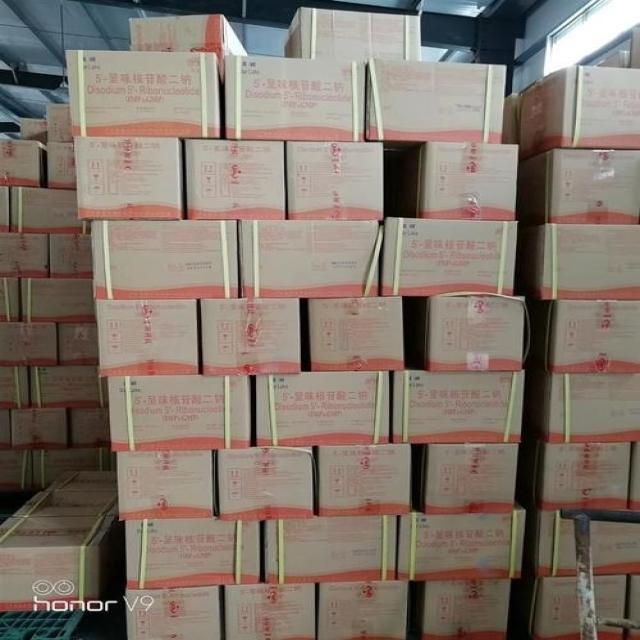box: (64, 49, 224, 138), (364, 55, 506, 145), (218, 56, 364, 142), (90, 219, 237, 300), (0, 517, 126, 611), (519, 64, 639, 161), (250, 369, 394, 449), (237, 219, 381, 297), (107, 373, 251, 451), (377, 218, 519, 297), (384, 142, 521, 221), (124, 517, 262, 591), (514, 221, 639, 302), (261, 514, 402, 585), (392, 369, 524, 443), (400, 295, 524, 372), (516, 148, 639, 225), (74, 137, 185, 220), (399, 510, 526, 581), (523, 296, 639, 373), (182, 137, 288, 220), (522, 371, 639, 444), (96, 298, 204, 377), (515, 441, 631, 511), (301, 296, 406, 373), (285, 140, 385, 220), (522, 509, 639, 577), (282, 8, 421, 65), (200, 297, 301, 375), (507, 574, 628, 639), (316, 443, 422, 515), (215, 445, 319, 517), (117, 449, 219, 519), (422, 442, 521, 514), (407, 578, 510, 639), (219, 583, 321, 639), (317, 581, 411, 639), (129, 14, 251, 58), (125, 586, 222, 639), (32, 446, 117, 493), (10, 187, 91, 234), (28, 365, 110, 409), (20, 278, 97, 323), (12, 490, 117, 519), (0, 322, 59, 366), (10, 409, 71, 450), (0, 141, 49, 188), (0, 232, 49, 278), (49, 233, 94, 278), (57, 323, 99, 366), (69, 409, 111, 448), (43, 471, 117, 493), (47, 142, 77, 189), (0, 366, 30, 409), (501, 92, 520, 145), (47, 105, 73, 143), (0, 278, 22, 322), (627, 574, 639, 638), (20, 118, 48, 145), (629, 441, 639, 510), (0, 186, 10, 232), (0, 410, 11, 450)
